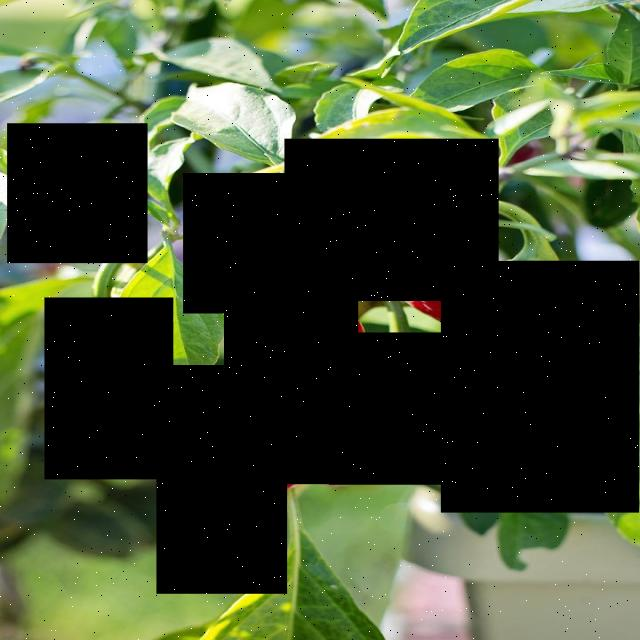Chili_Pepper: (441, 260, 640, 512), (284, 139, 498, 301), (157, 365, 288, 594), (224, 299, 358, 484), (329, 333, 485, 485), (45, 298, 173, 480), (183, 173, 344, 314), (8, 124, 148, 264)
